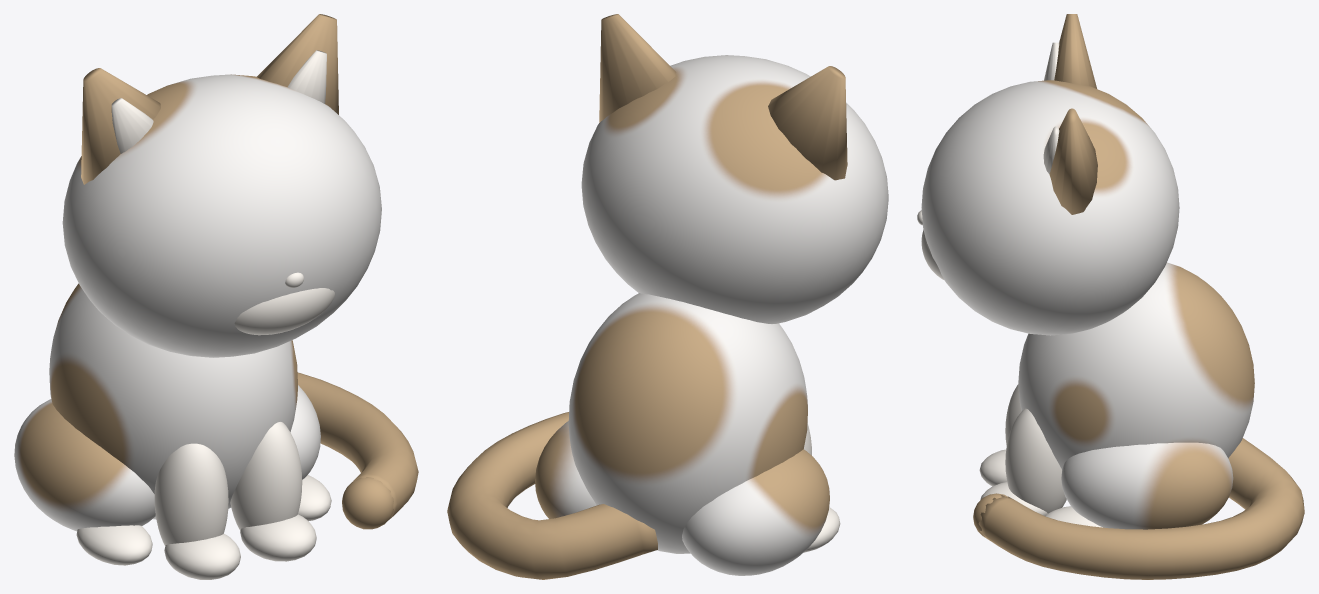
Rendered from cat_no_face.glb.
The picture shows the model from 3 angles, left to right: view 1: azimuth 30°, elevation 25°; view 2: azimuth 150°, elevation 25°; view 3: azimuth 270°, elevation 25°; orthographic projection. The views are drawn at different scales.
Visible parts, largest first — view 1: CatNoFace_Coat, CatNoFace_Tail, CatNoFace_FrontLeg_L, CatNoFace_FrontLeg_R, CatNoFace_Ear_L, CatNoFace_Ear_R, CatNoFace_Cheeks, CatNoFace_Paw_L, CatNoFace_Paw_R, CatNoFace_BackPaw_L, CatNoFace_TailTip, CatNoFace_EarInner_L (+2 smaller); view 2: CatNoFace_Coat, CatNoFace_Tail, CatNoFace_Ear_L, CatNoFace_Ear_R, CatNoFace_BackPaw_L; view 3: CatNoFace_Coat, CatNoFace_Tail, CatNoFace_FrontLeg_R, CatNoFace_Ear_R, CatNoFace_Ear_L, CatNoFace_Paw_L, CatNoFace_BackPaw_R.
Boxes of the visible parts, bbox=[...] form: CatNoFace_Coat: bbox=[14, 74, 381, 531]; CatNoFace_Tail: bbox=[297, 372, 418, 519]; CatNoFace_FrontLeg_L: bbox=[154, 443, 228, 545]; CatNoFace_FrontLeg_R: bbox=[230, 422, 302, 530]; CatNoFace_Ear_L: bbox=[81, 68, 160, 184]; CatNoFace_Ear_R: bbox=[257, 14, 338, 114]; CatNoFace_Cheeks: bbox=[234, 288, 334, 335]; CatNoFace_Paw_L: bbox=[164, 534, 240, 579]; CatNoFace_Paw_R: bbox=[240, 514, 316, 561]; CatNoFace_BackPaw_L: bbox=[76, 525, 152, 565]; CatNoFace_TailTip: bbox=[342, 477, 393, 529]; CatNoFace_EarInner_L: bbox=[111, 98, 153, 153]; CatNoFace_Coat: bbox=[535, 55, 888, 575]; CatNoFace_Tail: bbox=[447, 412, 657, 579]; CatNoFace_Ear_L: bbox=[768, 66, 847, 180]; CatNoFace_Ear_R: bbox=[599, 14, 676, 122]; CatNoFace_BackPaw_L: bbox=[804, 507, 840, 552]; CatNoFace_Coat: bbox=[921, 80, 1254, 529]; CatNoFace_Tail: bbox=[978, 438, 1304, 579]; CatNoFace_FrontLeg_R: bbox=[1005, 408, 1066, 513]; CatNoFace_Ear_R: bbox=[1049, 108, 1097, 214]; CatNoFace_Ear_L: bbox=[1054, 14, 1096, 88]; CatNoFace_Paw_L: bbox=[979, 449, 1007, 486]; CatNoFace_BackPaw_R: bbox=[1045, 506, 1102, 527].
Bounding box in the file's own units: 0.339 × 0.4555 × 0.3604.
Materials: 3 (1 with a texture image).
